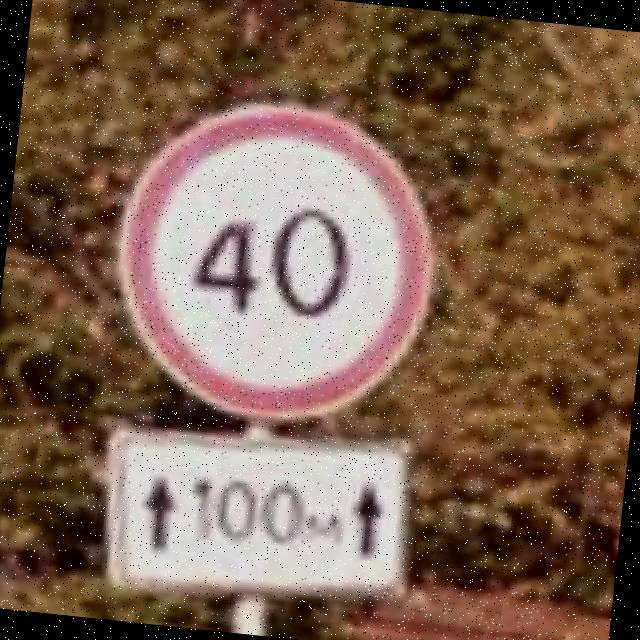Ograniczenie predkosci do 40: (100, 89, 448, 436)
